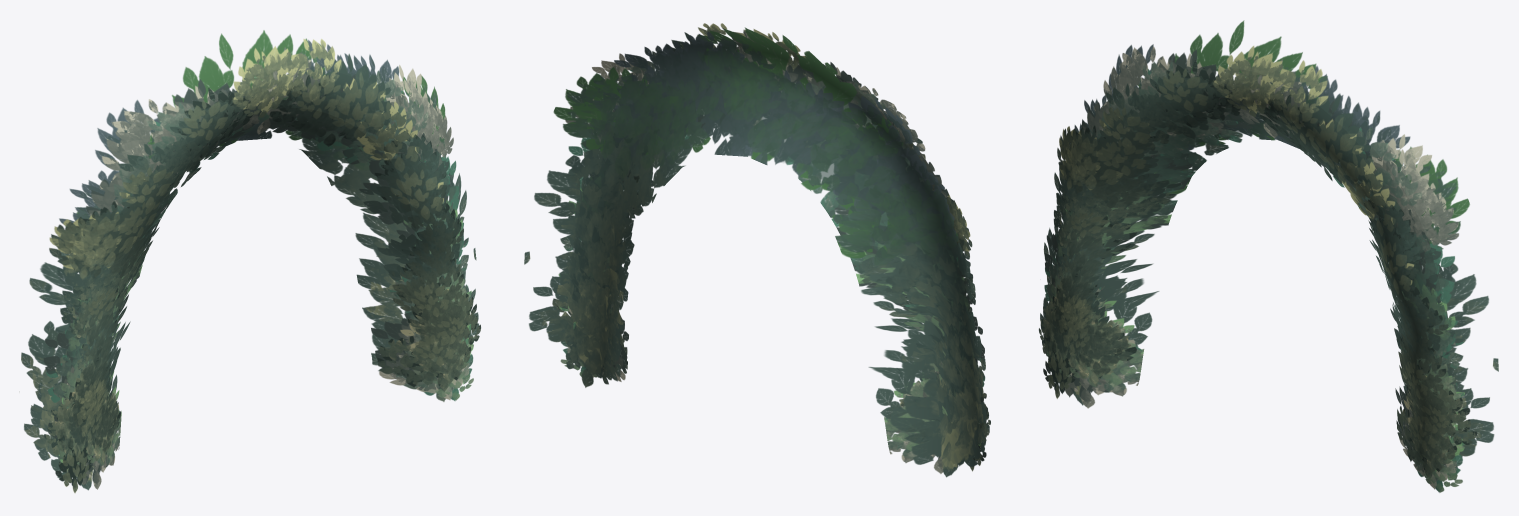
The model's file is instal1.glb.
3 views of the same model, side by side, from view 1: azimuth 30°, elevation 25°; view 2: azimuth 150°, elevation 25°; view 3: azimuth 330°, elevation 25° (orthographic).
Visible parts, largest first — view 1: Circle.002, Circle.001, Circle; view 2: Circle, Circle.001, Circle.002; view 3: Circle.002, Circle.001, Circle.
Boxes of the visible parts, box(x1,y1,x2,y2) form: Circle.002: box(44, 39, 480, 493); Circle.001: box(43, 47, 473, 489); Circle: box(21, 30, 478, 490); Circle: box(524, 27, 989, 477); Circle.001: box(558, 30, 986, 473); Circle.002: box(547, 23, 990, 471); Circle.002: box(1039, 46, 1477, 477); Circle.001: box(1043, 46, 1465, 492); Circle: box(1040, 20, 1498, 480).
Bounding box in the file's own units: 2 × 1.7 × 0.2709.
3 materials, 3 textured.
